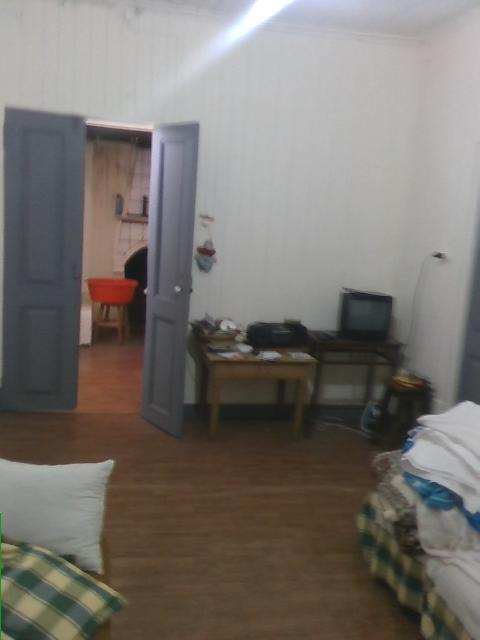open_door: (2, 107, 166, 415)
